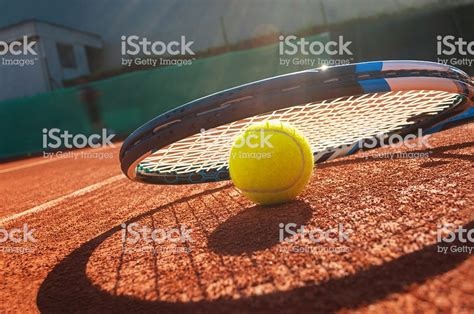tennis_ball: (227, 118, 314, 205)
